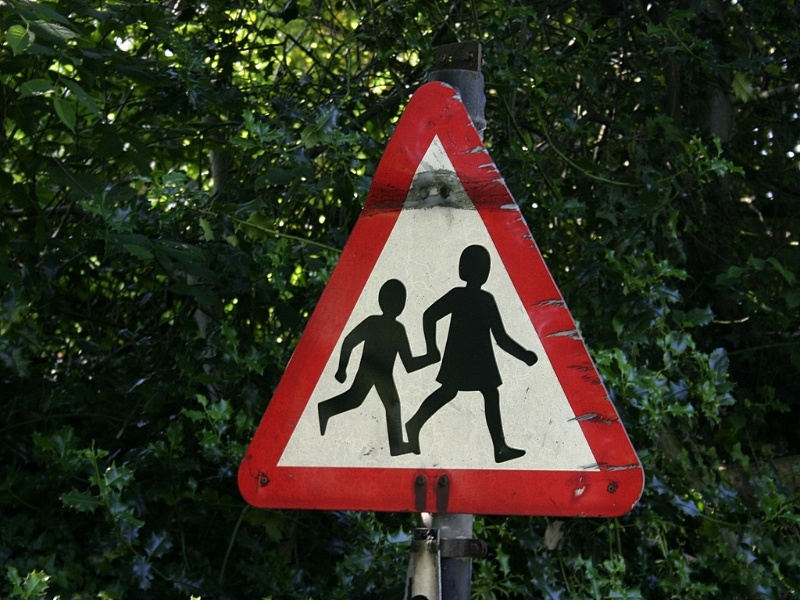pedestrian_crossing_ahead: (202, 76, 665, 525)
